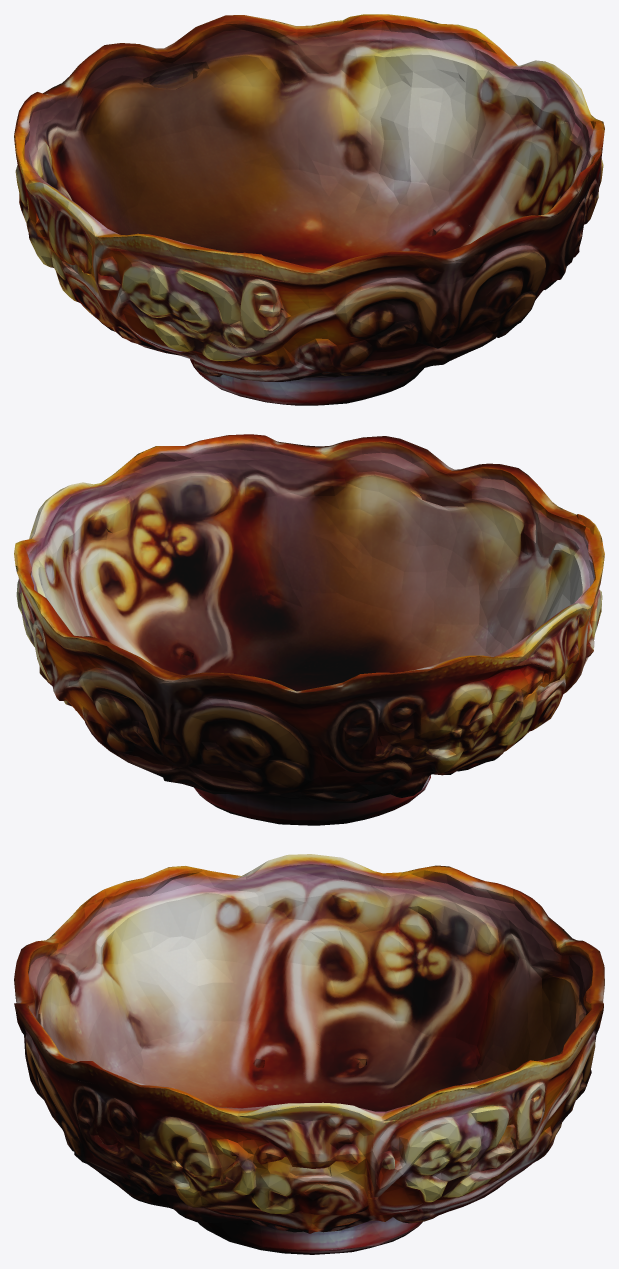
The model's file is ceramic-hand-carved-bowl-vintage.jpeg.glb.
The picture shows the model from 3 angles, top to bottom: view 1: azimuth 30°, elevation 25°; view 2: azimuth 150°, elevation 25°; view 3: azimuth 270°, elevation 25°; orthographic projection.
Visible parts, largest first — view 1: world; view 2: world; view 3: world.
Part boxes in pixels (<box>): world: <box>14,14,604,405</box>; world: <box>14,434,604,825</box>; world: <box>14,854,604,1254</box>.
Bounding box in the file's own units: 1 × 0.422 × 0.9936.
1 material, 1 textured.
